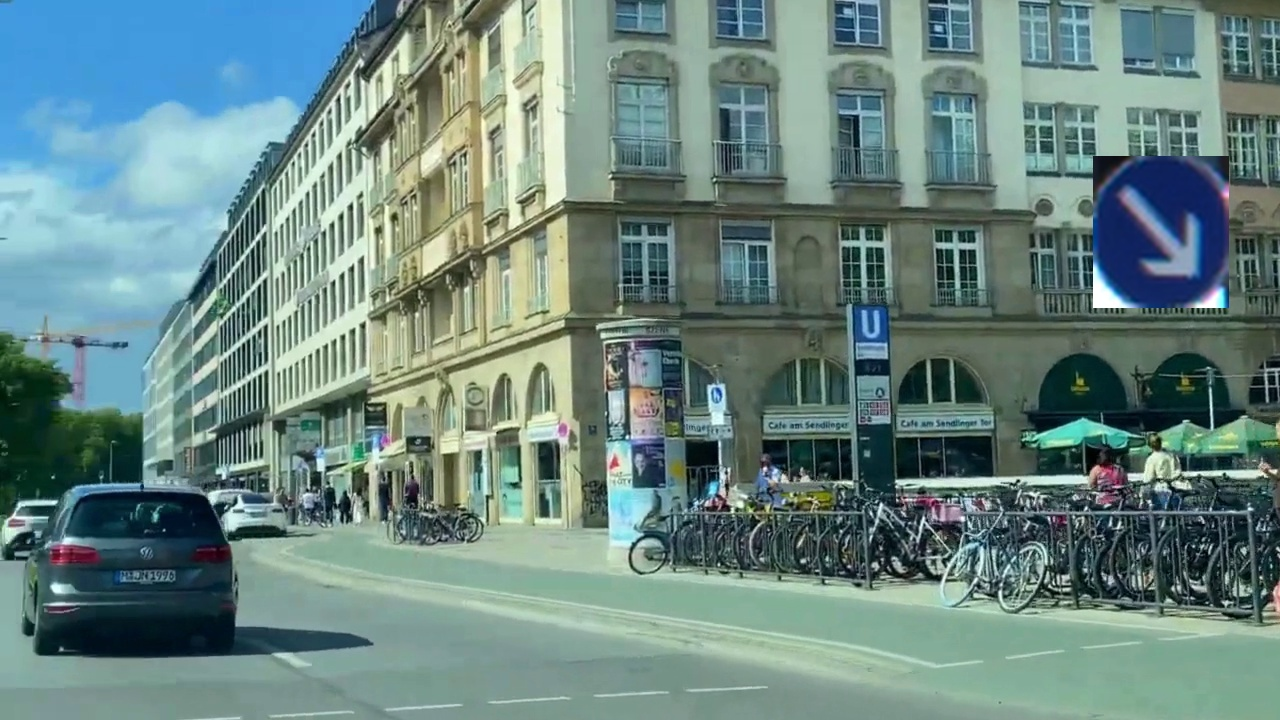Keep right: (1093, 156, 1229, 308)
